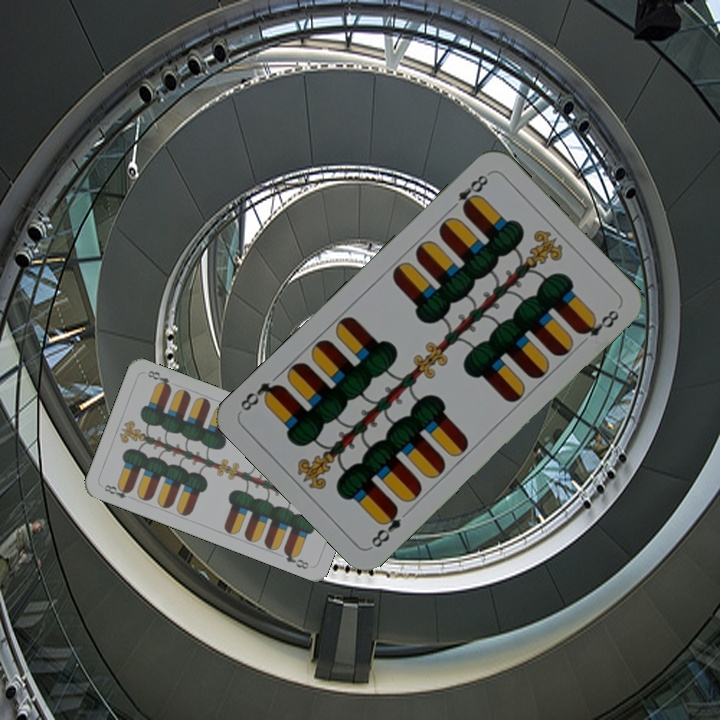E8: (445, 169, 493, 215), (367, 503, 404, 551), (100, 481, 134, 501)
